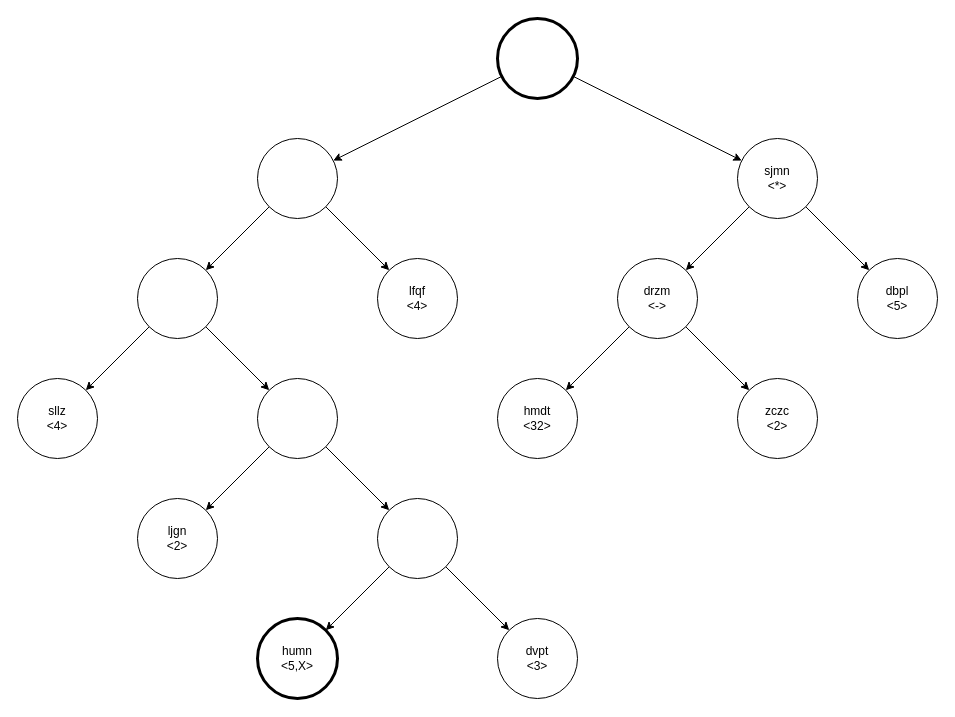
The diagram is 955 pixels wide and 717 high, and some of its shapes have lost their labels. The box of each missing label's shape, as (x1, y1, x2, y2) in pixels:
cczh <+>: (136, 258, 218, 338)
lgvd <*>: (256, 378, 338, 458)
pppw </>: (256, 138, 338, 218)
ptdq <->: (376, 498, 458, 578)
root <+,=>: (496, 16, 578, 100)
